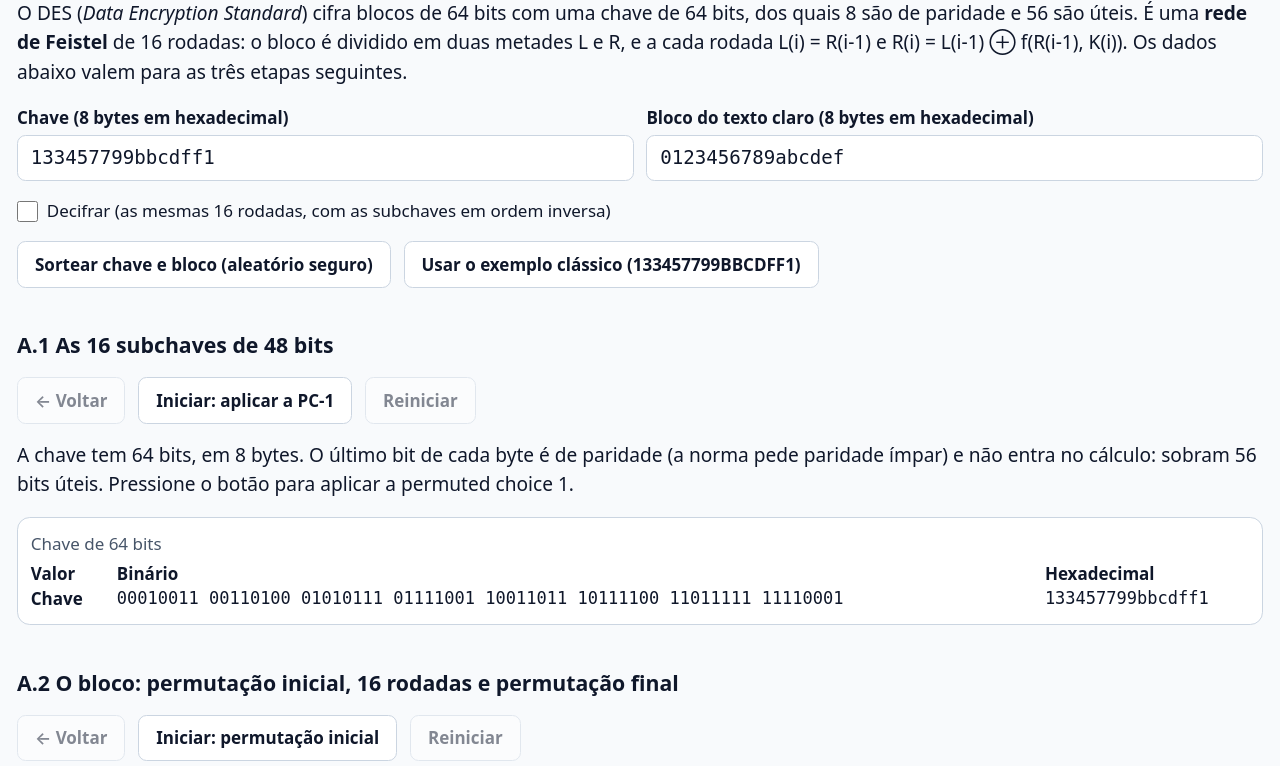
laboratório de DES e Triple DES › A.1: a primeira subchave confere com o exemplo clássico
The image size is (1280, 766).
(page scrolled)
Click the button "Iniciar: aplicar a PC-1" at (245, 400), box [138, 377, 352, 424]
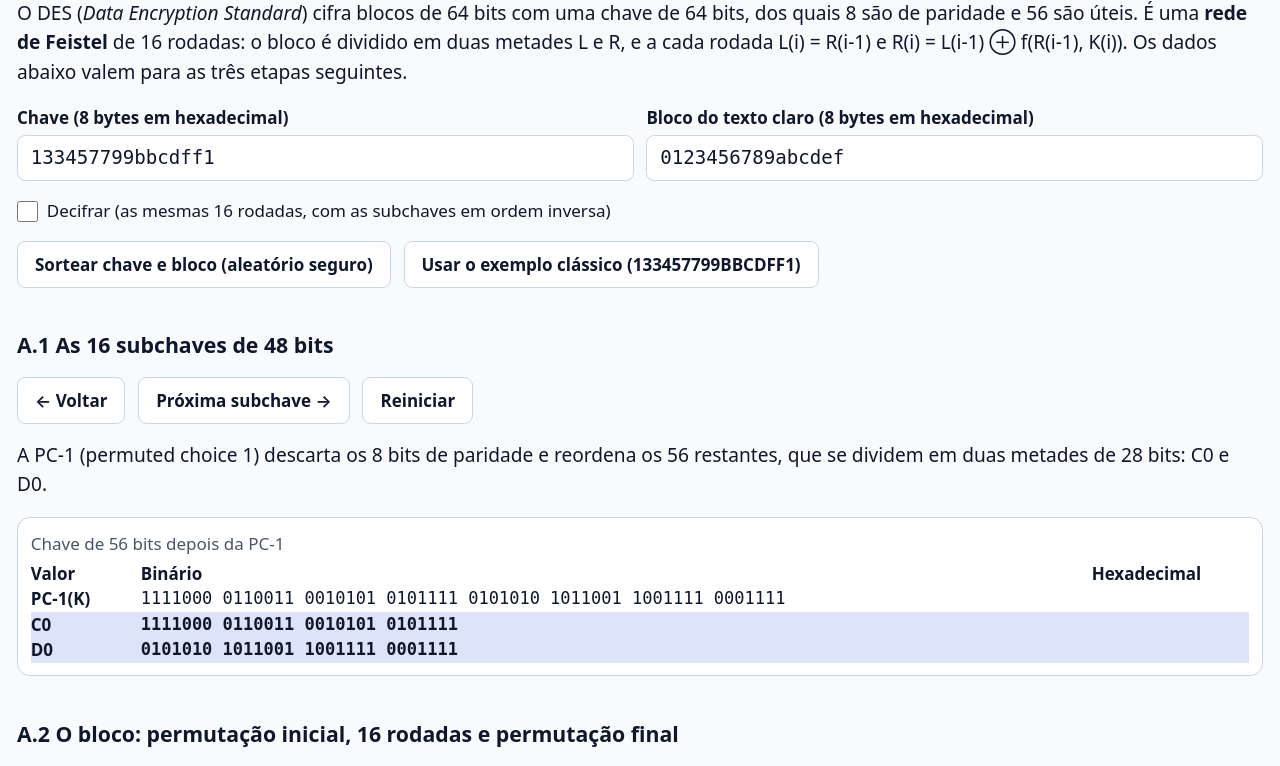
Now the text "PC-1 (permuted choice 1)" is shown, box [17, 442, 1229, 498]
Click the button "Próxima subchave →" at (244, 400), box [138, 377, 350, 424]
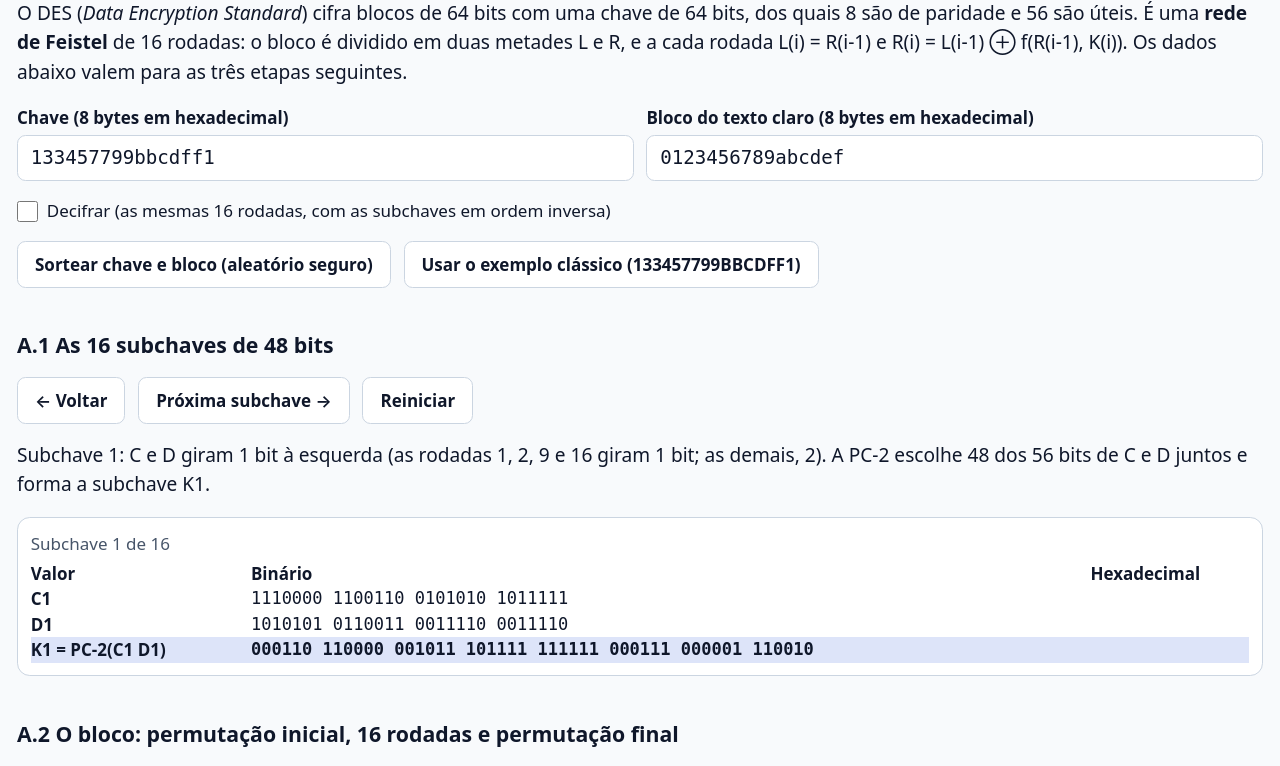
Now the text "000110 110000 001011 101111 111111 000111 000001 110010" is shown, box [251, 637, 1090, 663]
